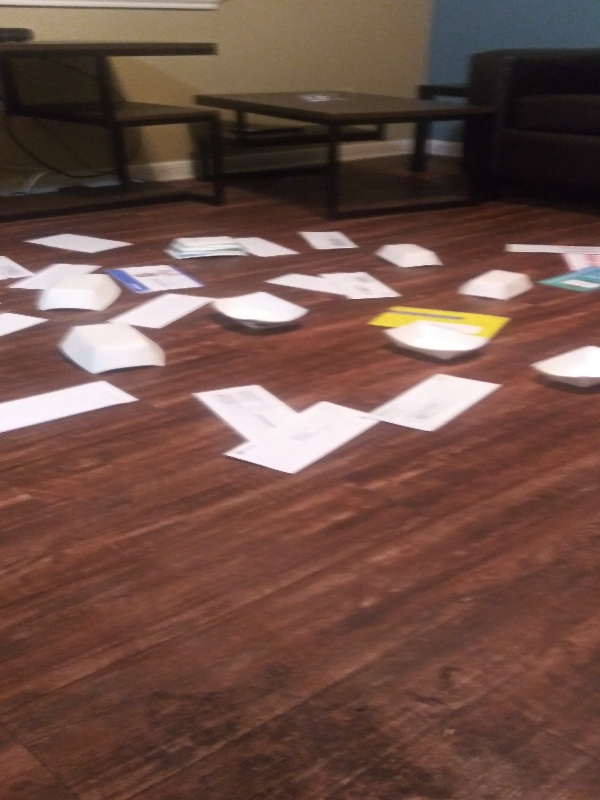plate: (53, 320, 177, 376), (381, 317, 496, 366), (206, 290, 314, 333), (526, 339, 600, 392), (34, 271, 125, 314), (452, 267, 535, 305), (159, 234, 255, 263), (369, 239, 445, 271)
